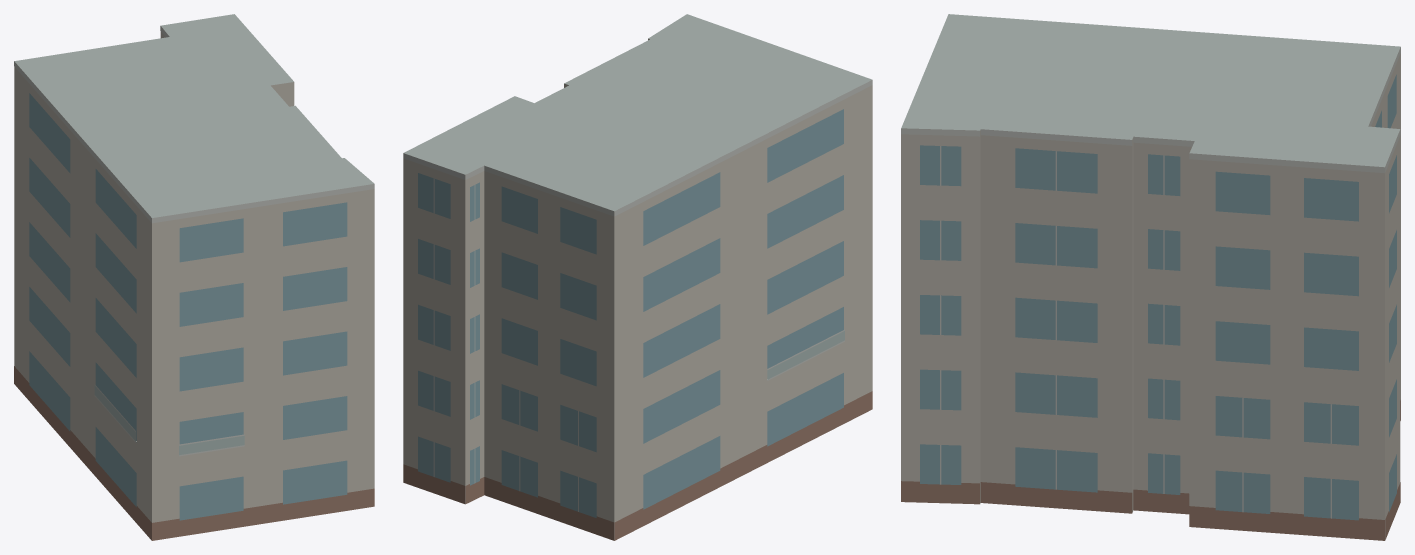
The model's file is survey-upis-32933758.glb.
The picture shows the model from 3 angles, left to right: view 1: azimuth 30°, elevation 25°; view 2: azimuth 150°, elevation 25°; view 3: azimuth 270°, elevation 25°; orthographic projection. The views are drawn at different scales.
Visible parts, largest first — view 1: survey-upis-32933758.tmp; view 2: survey-upis-32933758.tmp; view 3: survey-upis-32933758.tmp.
Boxes of the visible parts, x1,y1,x2,y2 form: survey-upis-32933758.tmp: [14, 14, 374, 540]; survey-upis-32933758.tmp: [403, 14, 872, 540]; survey-upis-32933758.tmp: [901, 14, 1400, 540].
Size of the model in its own units: 13.42 by 15.25 by 18.49.
